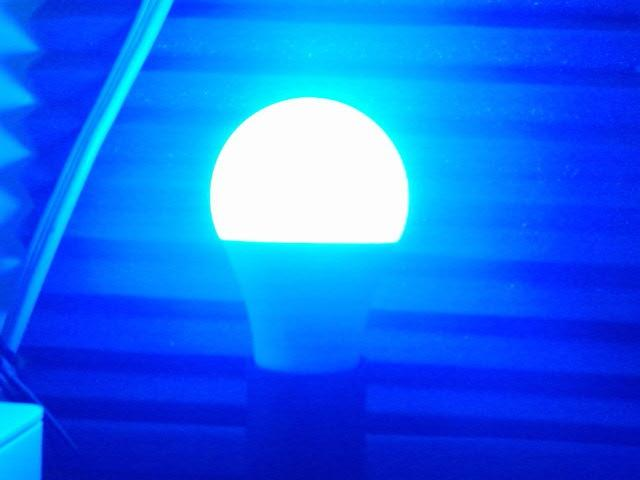TubeLight: (207, 94, 411, 288)
